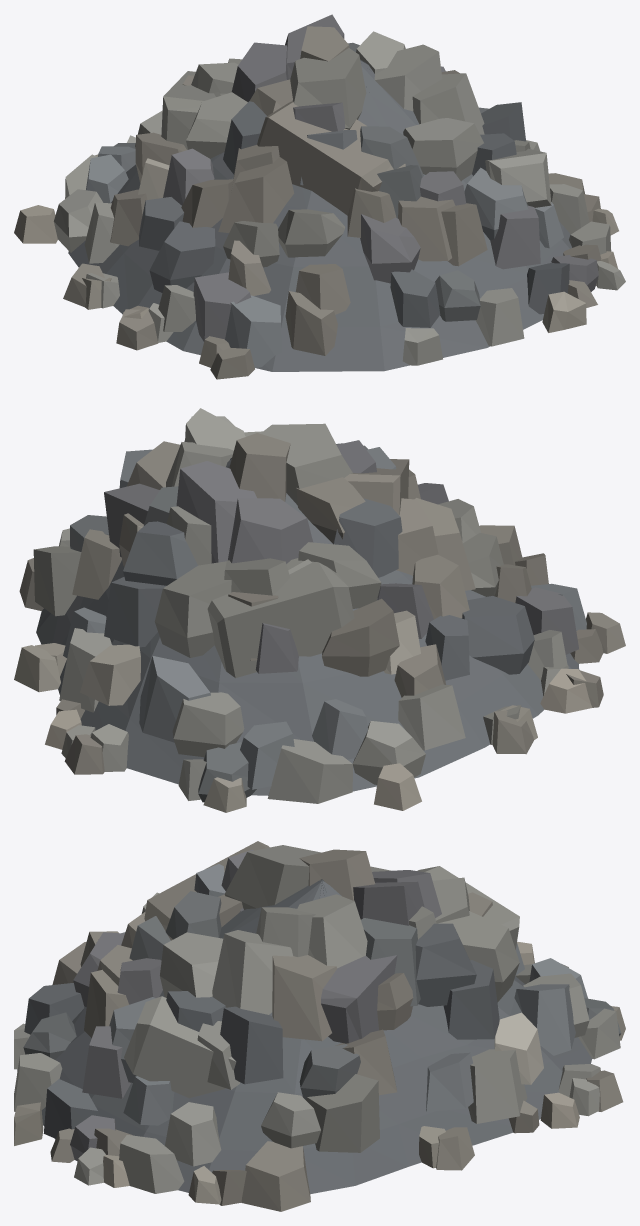
Rendered from SM_LPD_Struct_RubbleHeapMound_01.fbx.
3 renders of one model, top to bottom at view 1: azimuth 30°, elevation 25°; view 2: azimuth 150°, elevation 25°; view 3: azimuth 270°, elevation 25°, orthographic. The views are drawn at different scales.
Visible parts, largest first — view 1: SM_LPD_Struct_RubbleHeapMound_01; view 2: SM_LPD_Struct_RubbleHeapMound_01; view 3: SM_LPD_Struct_RubbleHeapMound_01.
Part boxes in pixels (x1,y1,x2,y2): SM_LPD_Struct_RubbleHeapMound_01: (14,14,625,379); SM_LPD_Struct_RubbleHeapMound_01: (14,408,625,812); SM_LPD_Struct_RubbleHeapMound_01: (14,841,625,1211).
Bounding box in the file's own units: 2.14 × 0.8739 × 2.08.
